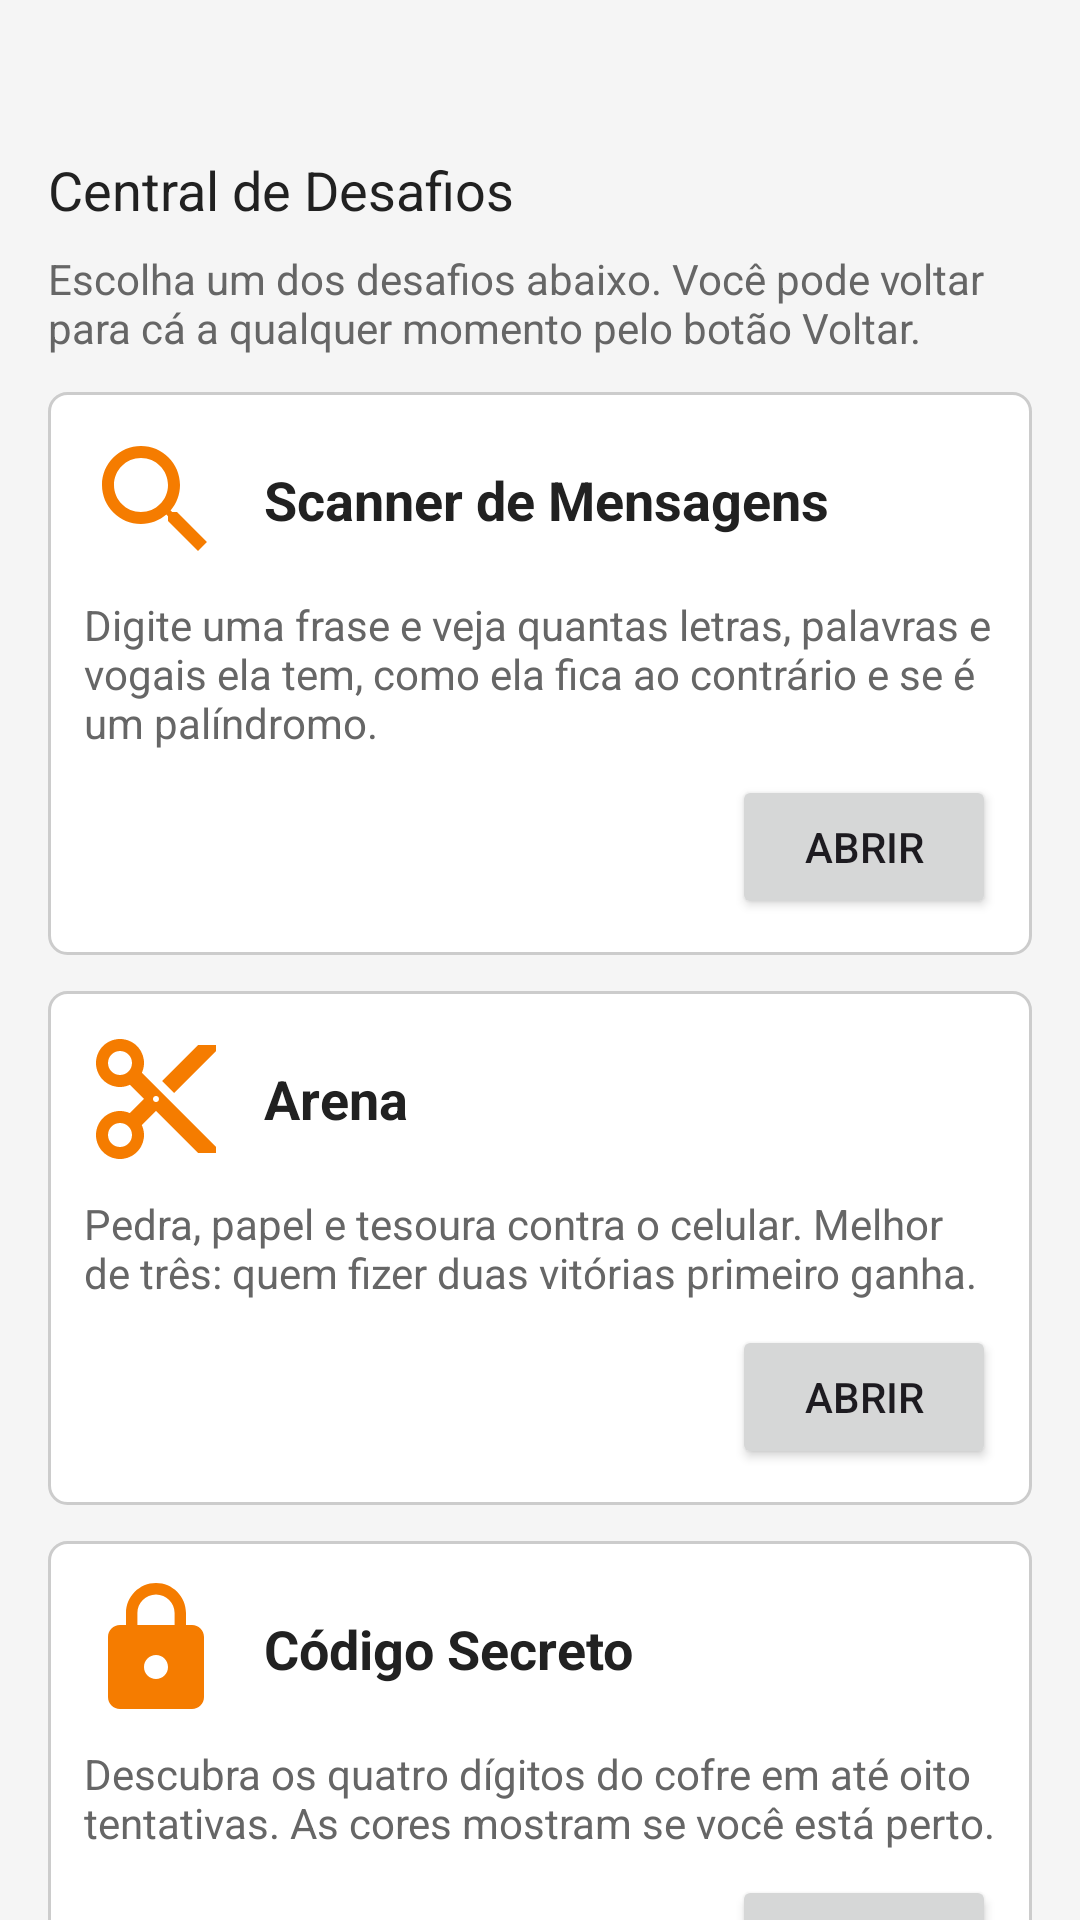

Named icons in this screenshot (1080px×1920px) and their bounding boxes, {"left": x1, "top": y1, "right": x2, "bottom": y2}:
Ícone de cadeado do cofre: {"left": 108, "top": 1583, "right": 204, "bottom": 1709}
Ícone de lupa do scanner: {"left": 102, "top": 446, "right": 207, "bottom": 551}
